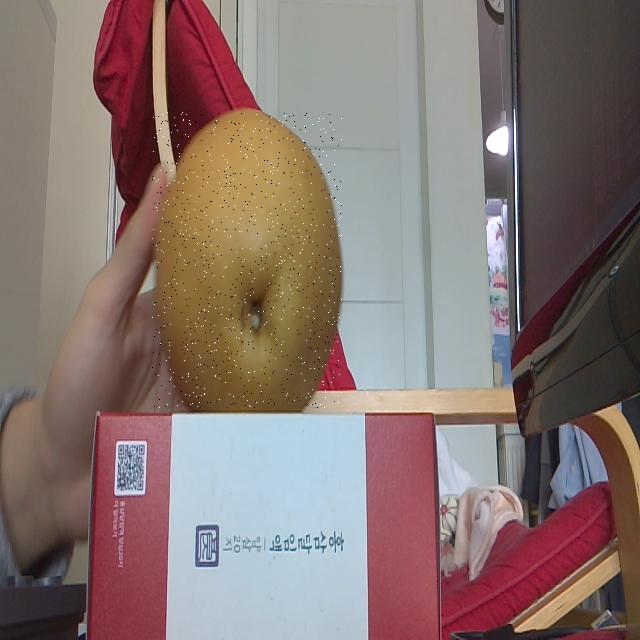pear: (152, 112, 342, 408)
